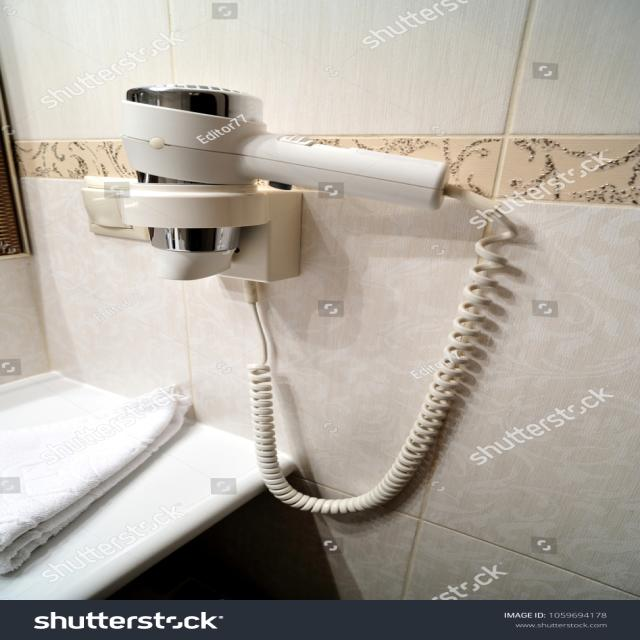dryer: (80, 66, 529, 526), (104, 81, 475, 289)
